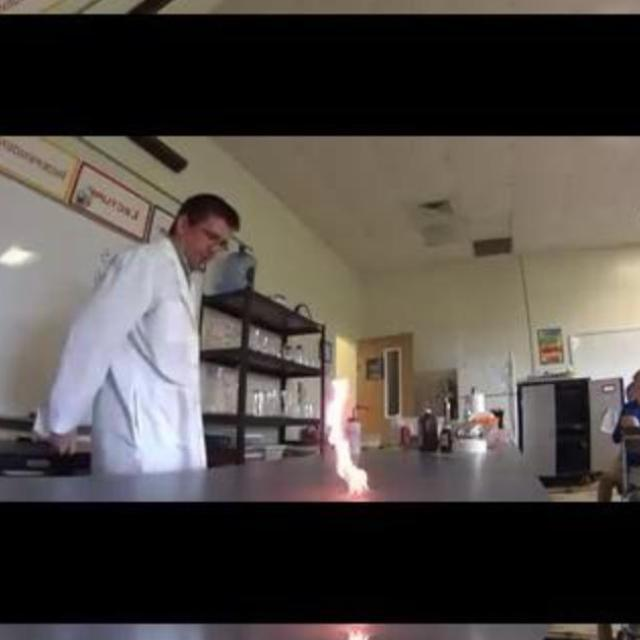smoke: (322, 394, 377, 496)
